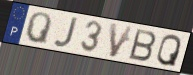3: (79, 20, 104, 54)
B: (127, 28, 157, 63)
J: (52, 17, 80, 49)
Q: (24, 11, 53, 47), (155, 34, 183, 68)
V: (108, 22, 135, 59)
